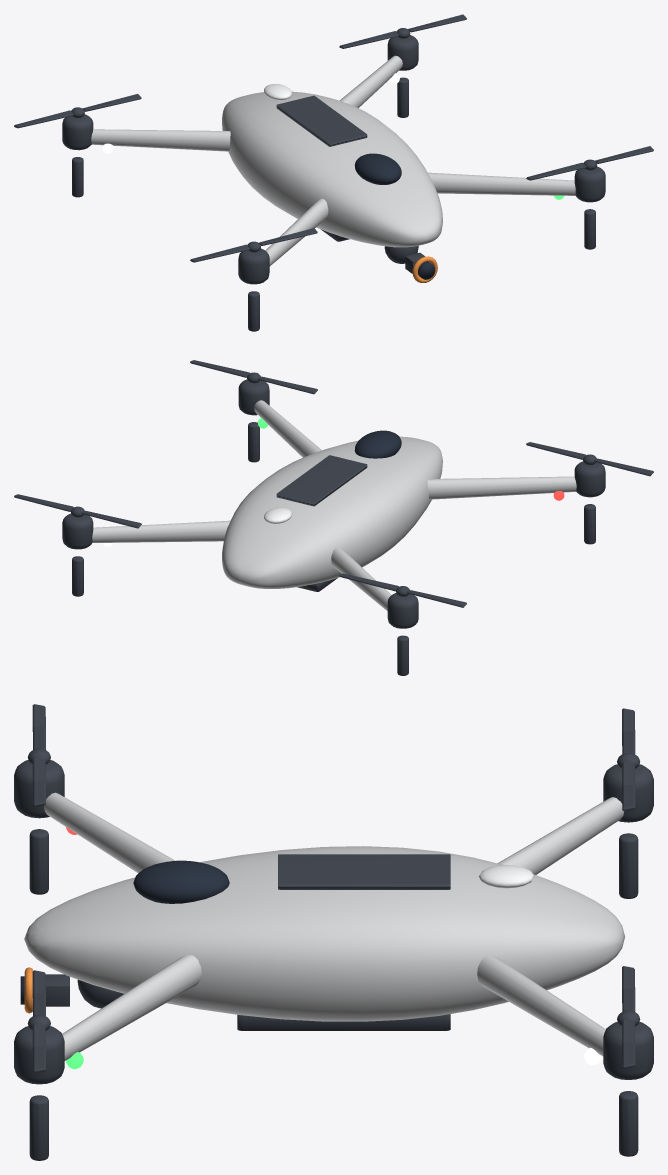
Rendered from drone.glb.
The picture shows the model from 3 angles, top to bottom: view 1: azimuth 30°, elevation 25°; view 2: azimuth 150°, elevation 25°; view 3: azimuth 270°, elevation 25°; orthographic projection. The views are drawn at different scales.
Parts seen in each view (by area): view 1: hull, arm_0, arm_2, deck, arm_1, canopy, arm_3, nac_1, nac_0, nac_2, nac_3, foot_0 (+3 smaller); view 2: hull, arm_1, arm_3, deck, arm_0, arm_2, canopy, nac_2, nac_3, nac_1, nac_0, foot_3 (+3 smaller); view 3: hull, deck, arm_0, arm_3, arm_1, arm_2, canopy, belly, nac_0, nac_3, nac_1, nac_2 (+10 smaller).
Boxes of the visible parts, bbox=[...] form: hull: bbox=[222, 91, 442, 247]; arm_0: bbox=[428, 172, 575, 195]; arm_2: bbox=[91, 129, 230, 151]; deck: bbox=[276, 95, 367, 146]; arm_1: bbox=[265, 198, 328, 266]; canopy: bbox=[354, 153, 401, 184]; arm_3: bbox=[339, 55, 402, 107]; nac_1: bbox=[238, 248, 269, 284]; nac_0: bbox=[574, 166, 605, 202]; nac_2: bbox=[62, 114, 93, 150]; nac_3: bbox=[387, 35, 418, 70]; foot_0: bbox=[584, 209, 595, 249]; hull: bbox=[222, 436, 442, 588]; arm_1: bbox=[427, 476, 576, 499]; arm_3: bbox=[92, 520, 230, 542]; deck: bbox=[276, 455, 367, 506]; arm_0: bbox=[254, 400, 321, 457]; arm_2: bbox=[331, 547, 391, 610]; canopy: bbox=[354, 430, 401, 458]; nac_2: bbox=[387, 593, 418, 628]; nac_3: bbox=[62, 513, 93, 549]; nac_1: bbox=[574, 461, 605, 497]; nac_0: bbox=[238, 379, 269, 415]; foot_3: bbox=[72, 556, 83, 596]; hull: bbox=[24, 846, 624, 1021]; deck: bbox=[278, 854, 450, 889]; arm_0: bbox=[62, 955, 201, 1060]; arm_3: bbox=[477, 955, 605, 1056]; arm_1: bbox=[44, 792, 175, 873]; arm_2: bbox=[497, 797, 624, 874]; canopy: bbox=[133, 860, 229, 903]; belly: bbox=[237, 1014, 450, 1030]; nac_0: bbox=[14, 1026, 64, 1084]; nac_3: bbox=[603, 1022, 653, 1079]; nac_1: bbox=[14, 760, 64, 818]; nac_2: bbox=[603, 764, 653, 822].
Bounding box in the file's own units: 1.7 × 0.3455 × 1.26.
